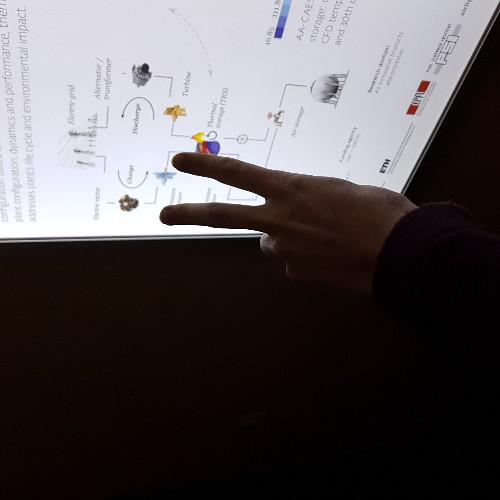scissors: (152, 139, 408, 307)
